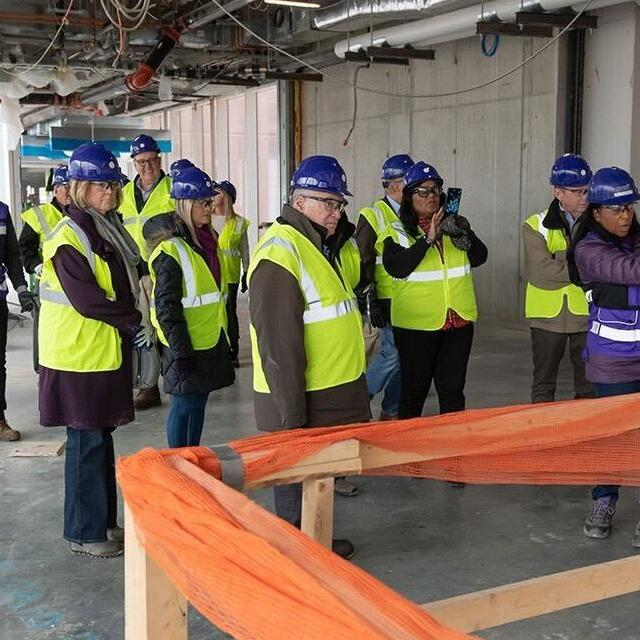Gloves: (133, 325, 159, 350), (177, 357, 199, 384), (18, 291, 40, 316), (370, 301, 387, 330), (454, 212, 470, 229), (140, 311, 151, 328), (240, 273, 248, 293), (34, 265, 44, 277)
Hardhat: (293, 154, 354, 196), (68, 141, 126, 181), (586, 165, 640, 205), (173, 166, 219, 200), (549, 152, 592, 186), (402, 158, 444, 189), (381, 153, 415, 180), (129, 134, 161, 157), (214, 179, 238, 202), (48, 166, 70, 185), (168, 158, 195, 171)
NO-Mask: (316, 213, 338, 235), (90, 194, 116, 210), (610, 219, 631, 236), (418, 199, 441, 213), (139, 168, 158, 181), (567, 201, 587, 212), (194, 212, 212, 224), (58, 193, 72, 205), (213, 197, 221, 205)
Person: (247, 153, 375, 564), (38, 141, 154, 560), (381, 160, 487, 486), (148, 167, 242, 446), (576, 164, 640, 548), (523, 153, 595, 401), (117, 134, 176, 412), (357, 152, 417, 418), (0, 141, 38, 452), (18, 166, 70, 374), (213, 178, 249, 366), (335, 213, 361, 291), (169, 156, 194, 188)
Safety Vest: (244, 220, 366, 392), (39, 216, 123, 373), (376, 217, 480, 331), (148, 238, 233, 350), (569, 230, 640, 355), (524, 209, 593, 318), (120, 175, 173, 261), (359, 201, 403, 296), (19, 202, 64, 293), (218, 215, 250, 286)
